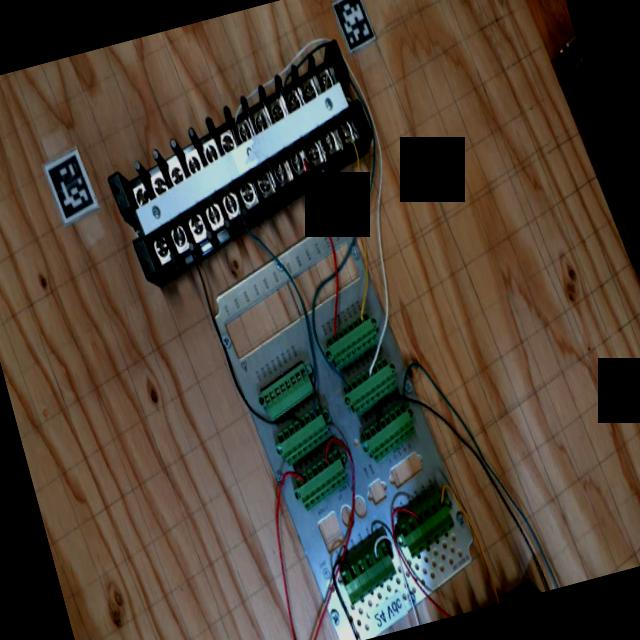Phillips_Block: (92, 39, 390, 277)
Terminal_1: (331, 539, 404, 605), (390, 492, 462, 558)
Terminal_2: (287, 449, 356, 511), (269, 404, 338, 466), (356, 402, 423, 463), (337, 356, 403, 416), (320, 311, 385, 370)
